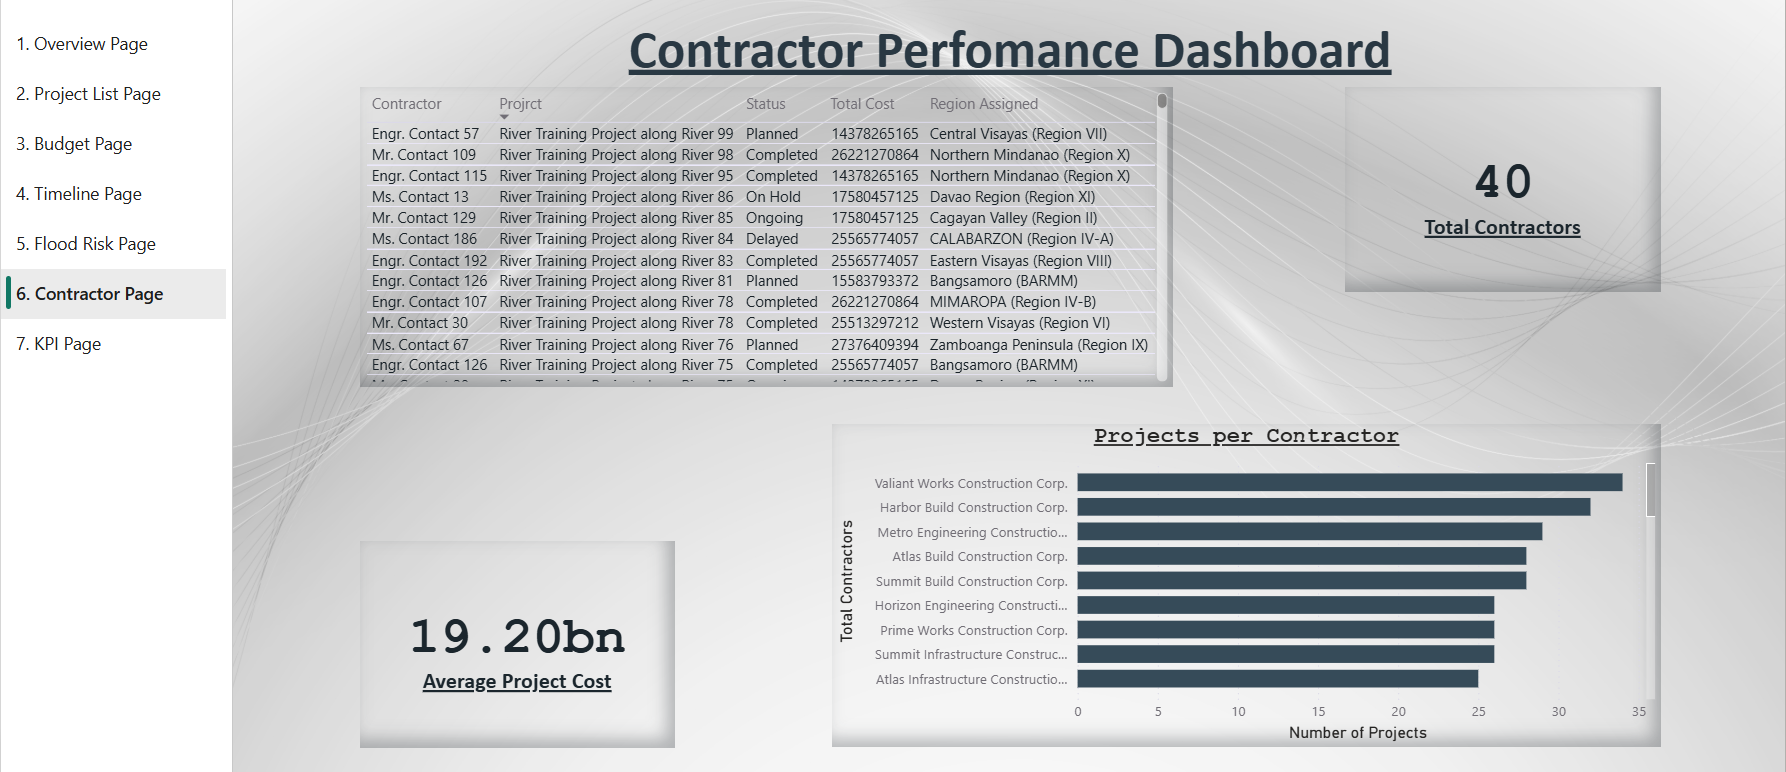

Layout of this report page (visuals, bound fields, positions):
{"tool":"powerbi","page":{"name":"6. Contractor Page","canvas":[1280,700],"ordinal":5},"visuals":[{"type":"textbox","box":[52.5,9.7,1175,70],"z":0},{"type":"card","fields":{"Values":["Avg(KPI_Summary.Total_Cost (PHP))"]},"box":[52.9,488.4,284.8,186],"z":1000},{"type":"clusteredBarChart","title":"Projects per Contractor","fields":{"Category":["Contractor_Info.Contractor_Name"],"Y":["CountNonNull(Flood_Risk_Data.Project_ID)"]},"box":[479.6,382.6,748.5,291.8],"z":2000},{"type":"tableEx","title":"Post Project Risk Level","fields":{"Values":["Contractor_Info.Contact_Person","Project_List.Project_Name","Project_List.Project_Status","KPI_Summary.Total_Cost (PHP)","Contractor_Info.Region_Assigned"]},"box":[52.9,79.3,734.4,270.7],"z":3000},{"type":"card","fields":{"Values":["CountNonNull(Contractor_Info.Contact_Person)"]},"box":[942.4,79.3,285.6,185.1],"z":4000}]}

Visuals, with their boxes on the page's 1280x700 design canvas (x1, y1, x2, y2). These are canvas units, not pixel positions in the 1786x772 screenshot, which may show the page scaled, cropped or inside an application window:
textbox: 52,10,1228,80
card - Avg(KPI_Summary.Total_Cost (PHP)): 53,488,338,674
"Projects per Contractor" clusteredBarChart: 480,383,1228,674
"Post Project Risk Level" tableEx: 53,79,787,350
card - CountNonNull(Contractor_Info.Contact_Person): 942,79,1228,264
